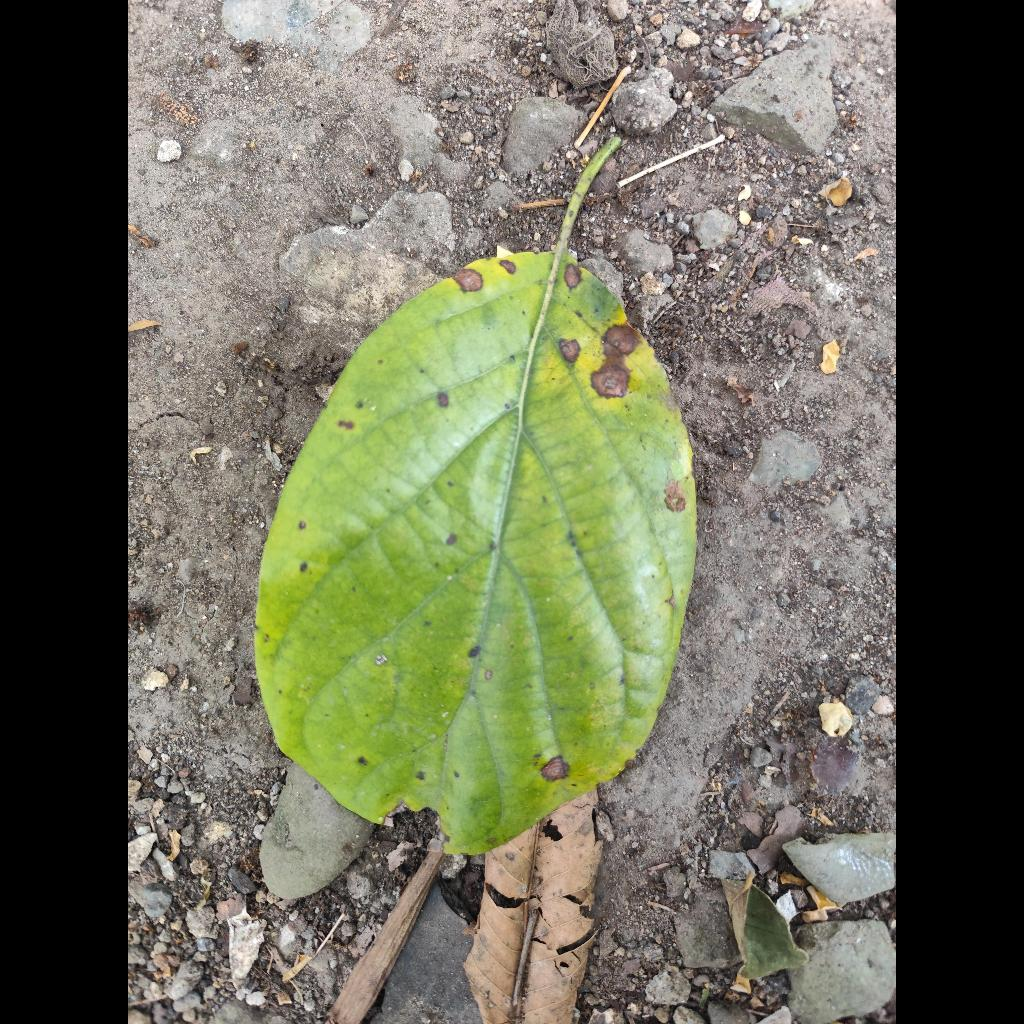nutrient_deficiency: (254, 245, 696, 853)
